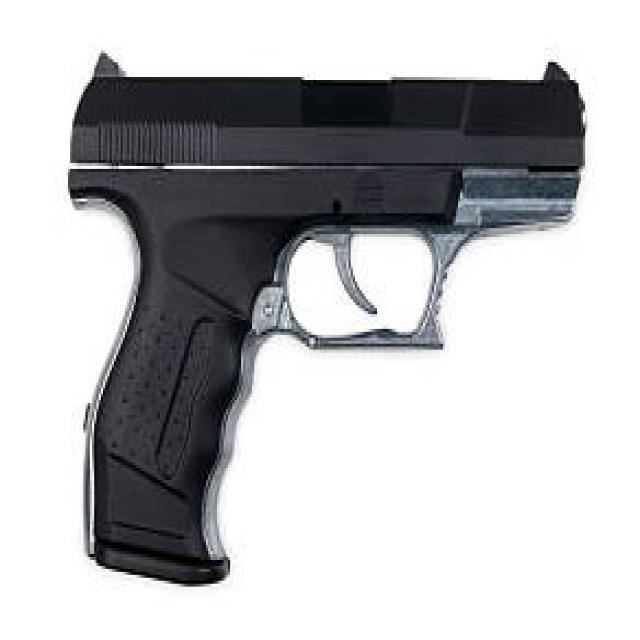pistol: (61, 45, 591, 600)
